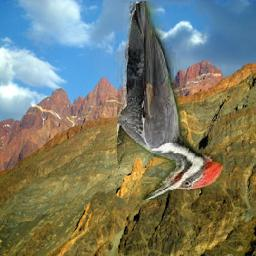Woodpecker: (117, 2, 223, 201)
